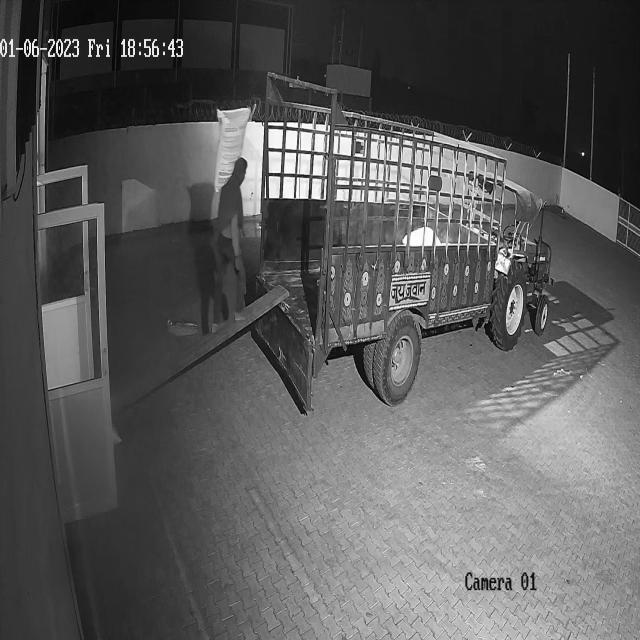sack: (214, 107, 251, 192)
